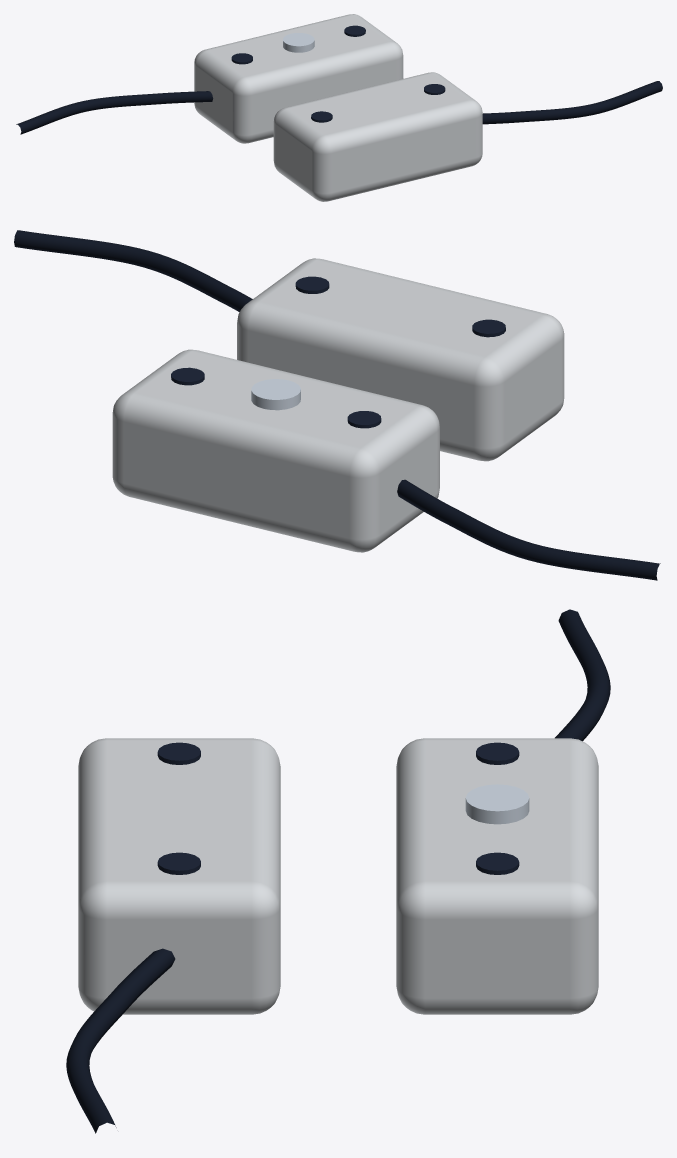
File: reference.glb
The picture shows the model from 3 angles, top to bottom: view 1: azimuth 30°, elevation 25°; view 2: azimuth 150°, elevation 25°; view 3: azimuth 270°, elevation 25°; orthographic projection. The views are drawn at different scales.
Parts seen in each view (by area): view 1: MC-38 magnet housing 27x14x10 mm, MC-38 reed housing 27x14x10 mm, MC-38 reed cable tail, MC-38 magnet cable tail, MC-38 reed capsule; view 2: MC-38 reed housing 27x14x10 mm, MC-38 magnet housing 27x14x10 mm, MC-38 reed cable tail, MC-38 magnet cable tail, MC-38 reed capsule, MC-38 reed mounting hole, MC-38 magnet mounting hole; view 3: MC-38 magnet housing 27x14x10 mm, MC-38 reed housing 27x14x10 mm, MC-38 magnet cable tail, MC-38 reed cable tail, MC-38 reed capsule, MC-38 reed mounting hole (×2), MC-38 magnet mounting hole (×2).
Boxes of the visible parts, x1,y1,x2,y2 form: MC-38 magnet housing 27x14x10 mm: (273,72,482,201); MC-38 reed housing 27x14x10 mm: (194,14,403,143); MC-38 reed cable tail: (16,91,213,134); MC-38 magnet cable tail: (482,81,662,124); MC-38 reed capsule: (283,33,314,52); MC-38 reed housing 27x14x10 mm: (112,349,439,552); MC-38 magnet housing 27x14x10 mm: (237,258,564,461); MC-38 reed cable tail: (397,479,660,580); MC-38 magnet cable tail: (14,230,252,311); MC-38 reed capsule: (251,379,300,410); MC-38 reed mounting hole: (347,411,381,428); MC-38 magnet mounting hole: (295,276,329,293); MC-38 magnet housing 27x14x10 mm: (78,738,280,1014); MC-38 reed housing 27x14x10 mm: (396,738,598,1014); MC-38 magnet cable tail: (66,948,175,1133); MC-38 reed cable tail: (555,609,610,741); MC-38 reed capsule: (465,784,529,824); MC-38 reed mounting hole (×2): (476,742,519,874); MC-38 magnet mounting hole (×2): (157,742,200,874).
Size of the model in its own units: 84.26 by 12 by 37.65.
